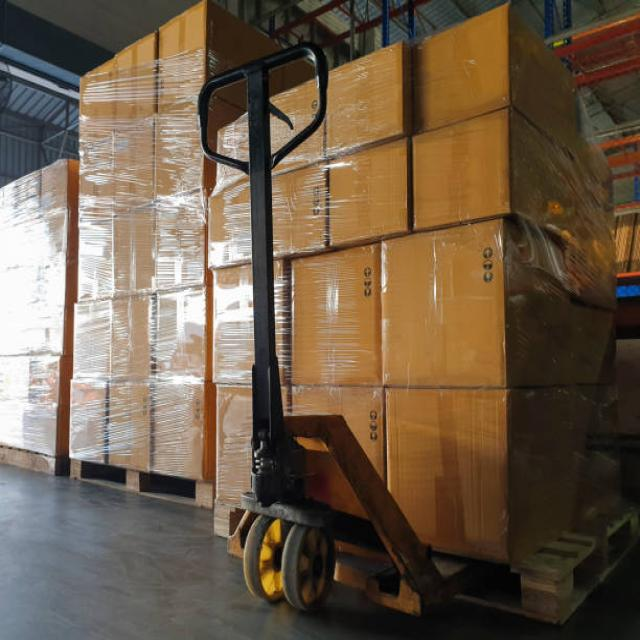Wooden-Pallets: (540, 485, 640, 632), (65, 457, 213, 514)
